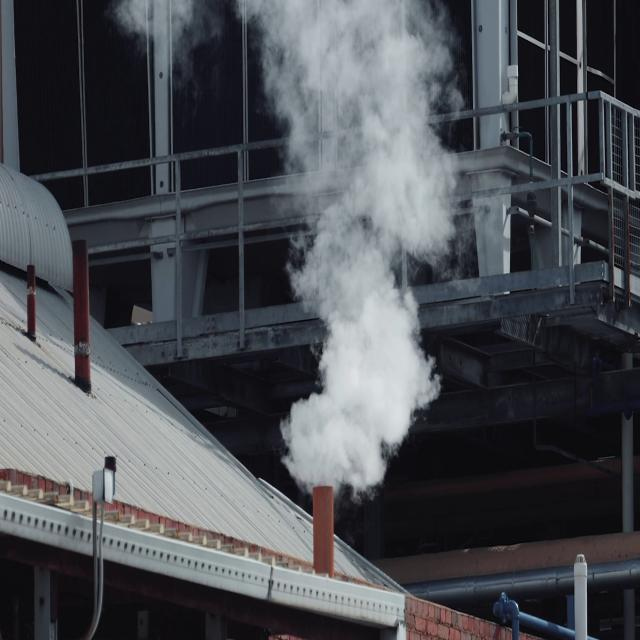Smoke: (270, 0, 477, 500)
